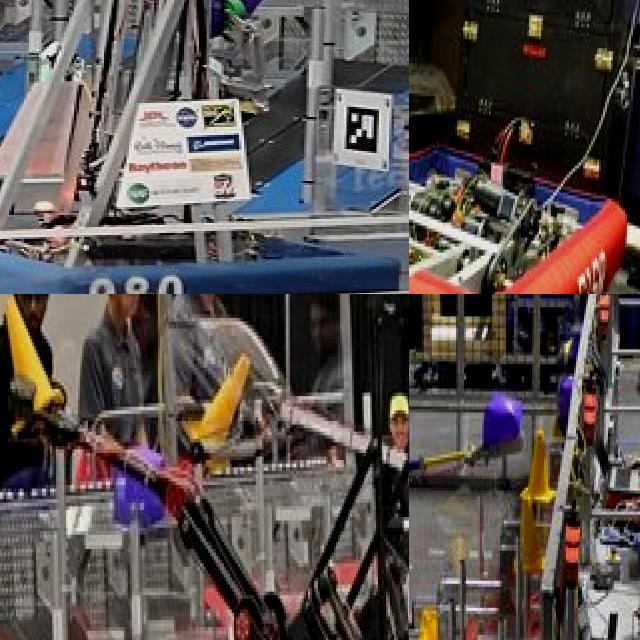FRC-Robots: (0, 294, 409, 640), (0, 0, 409, 294), (409, 67, 640, 294), (409, 345, 538, 640)
